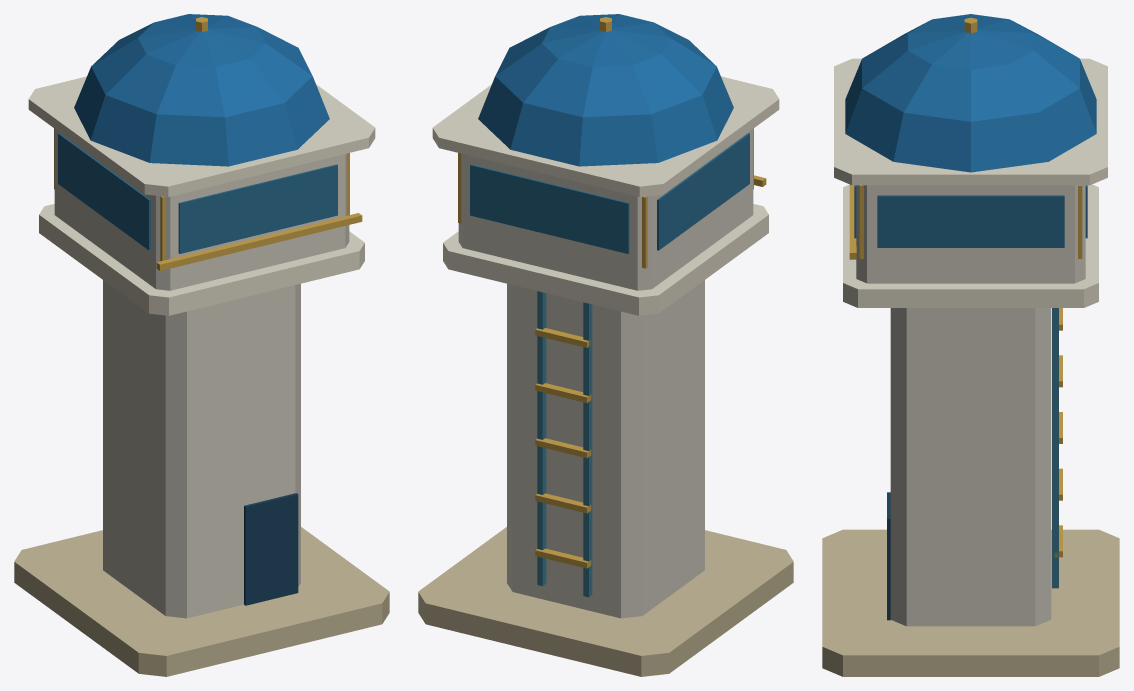
Rendered from palace-watchtower.glb.
The picture shows the model from 3 angles, left to right: view 1: azimuth 30°, elevation 25°; view 2: azimuth 150°, elevation 25°; view 3: azimuth 270°, elevation 25°; orthographic projection. The views are drawn at different scales.
Parts seen in each view (by area): view 1: intact_structure; view 2: intact_structure; view 3: intact_structure.
Boxes of the visible parts, <box> form: intact_structure: <box>14,14,389,676</box>; intact_structure: <box>418,14,793,676</box>; intact_structure: <box>822,14,1119,676</box>.
Size of the model in its own units: 5 by 11 by 5.
